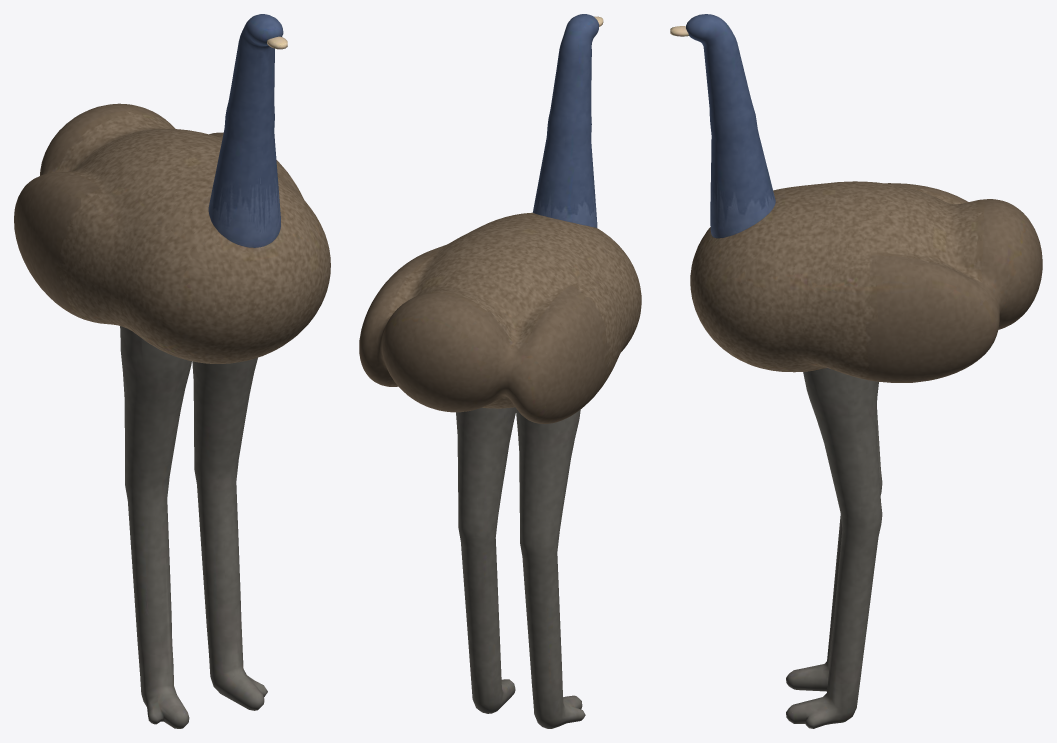
File: animal_emu.glb
3 views of the same model, side by side, from view 1: azimuth 30°, elevation 25°; view 2: azimuth 150°, elevation 25°; view 3: azimuth 270°, elevation 25° (orthographic). The views are drawn at different scales.
Parts seen in each view (by area): view 1: animal_emu, leg0, leg1, head; view 2: animal_emu, leg0, leg1, head; view 3: animal_emu, leg1, head, leg0.
Part boxes in pixels (x1,y1,x2,y2): animal_emu: (14,103,330,363); leg0: (120,326,191,728); leg1: (192,357,267,710); head: (208,14,287,247); animal_emu: (359,212,641,423); leg0: (516,408,585,728); leg1: (456,407,515,713); head: (532,14,603,227); animal_emu: (690,181,1042,382); leg1: (786,368,882,728); head: (670,14,775,238); leg0: (786,409,882,691).
Size of the model in its own units: 0.3067 by 0.9208 by 0.4502.
1 material, 1 textured.
